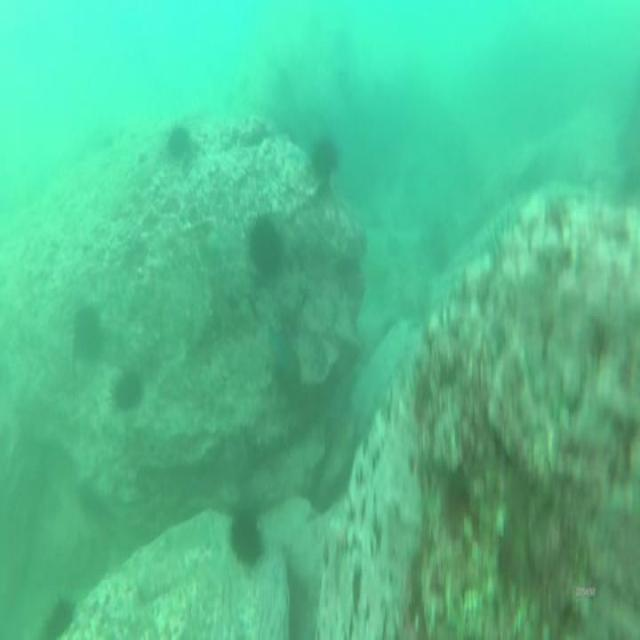echinus: (230, 507, 262, 564), (252, 217, 282, 270), (76, 310, 100, 356), (311, 136, 338, 171), (46, 605, 73, 635), (169, 126, 190, 158), (119, 378, 141, 403)
starfish: (265, 325, 290, 381)
